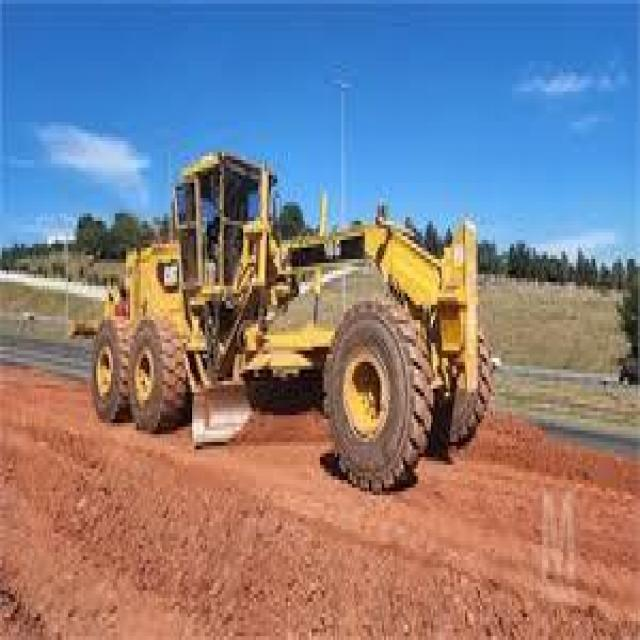Grader: (81, 137, 493, 495)
